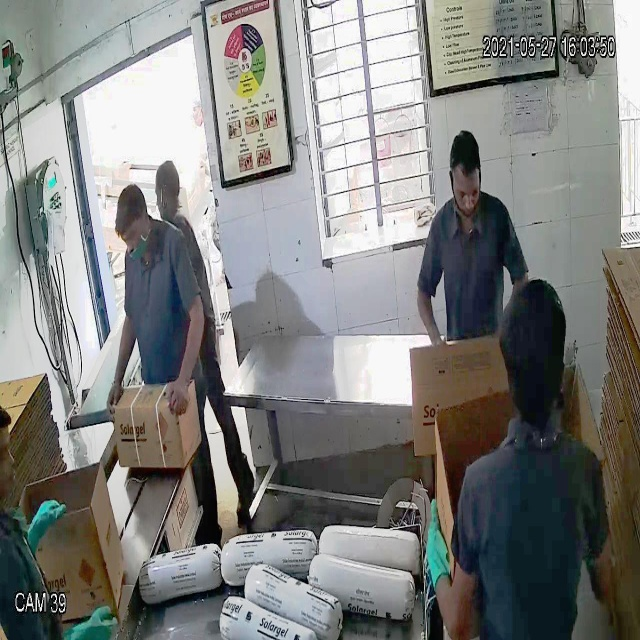Sin_gafas: (444, 176, 486, 207)
